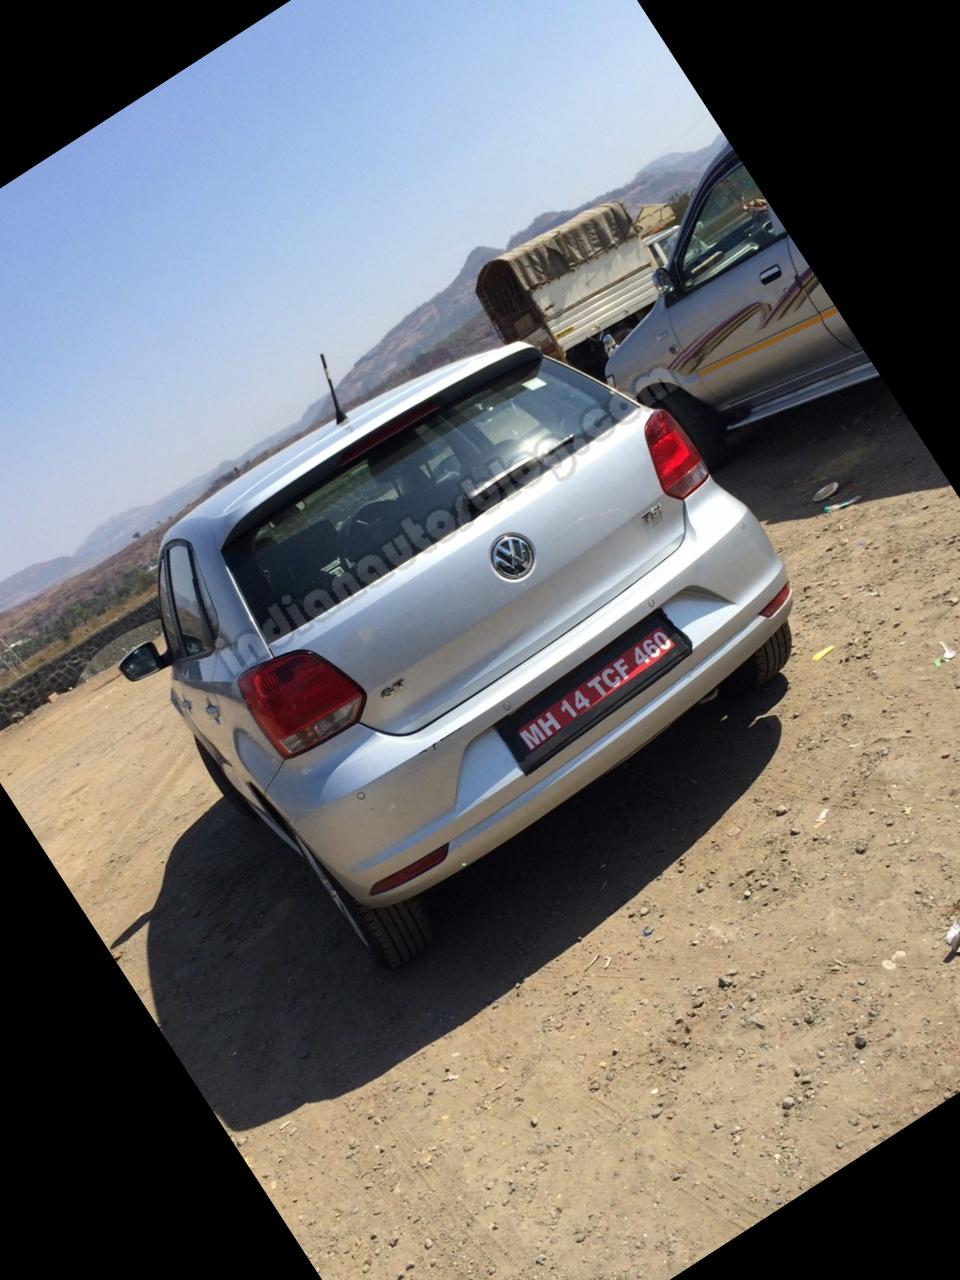plate: (483, 594, 717, 785)
